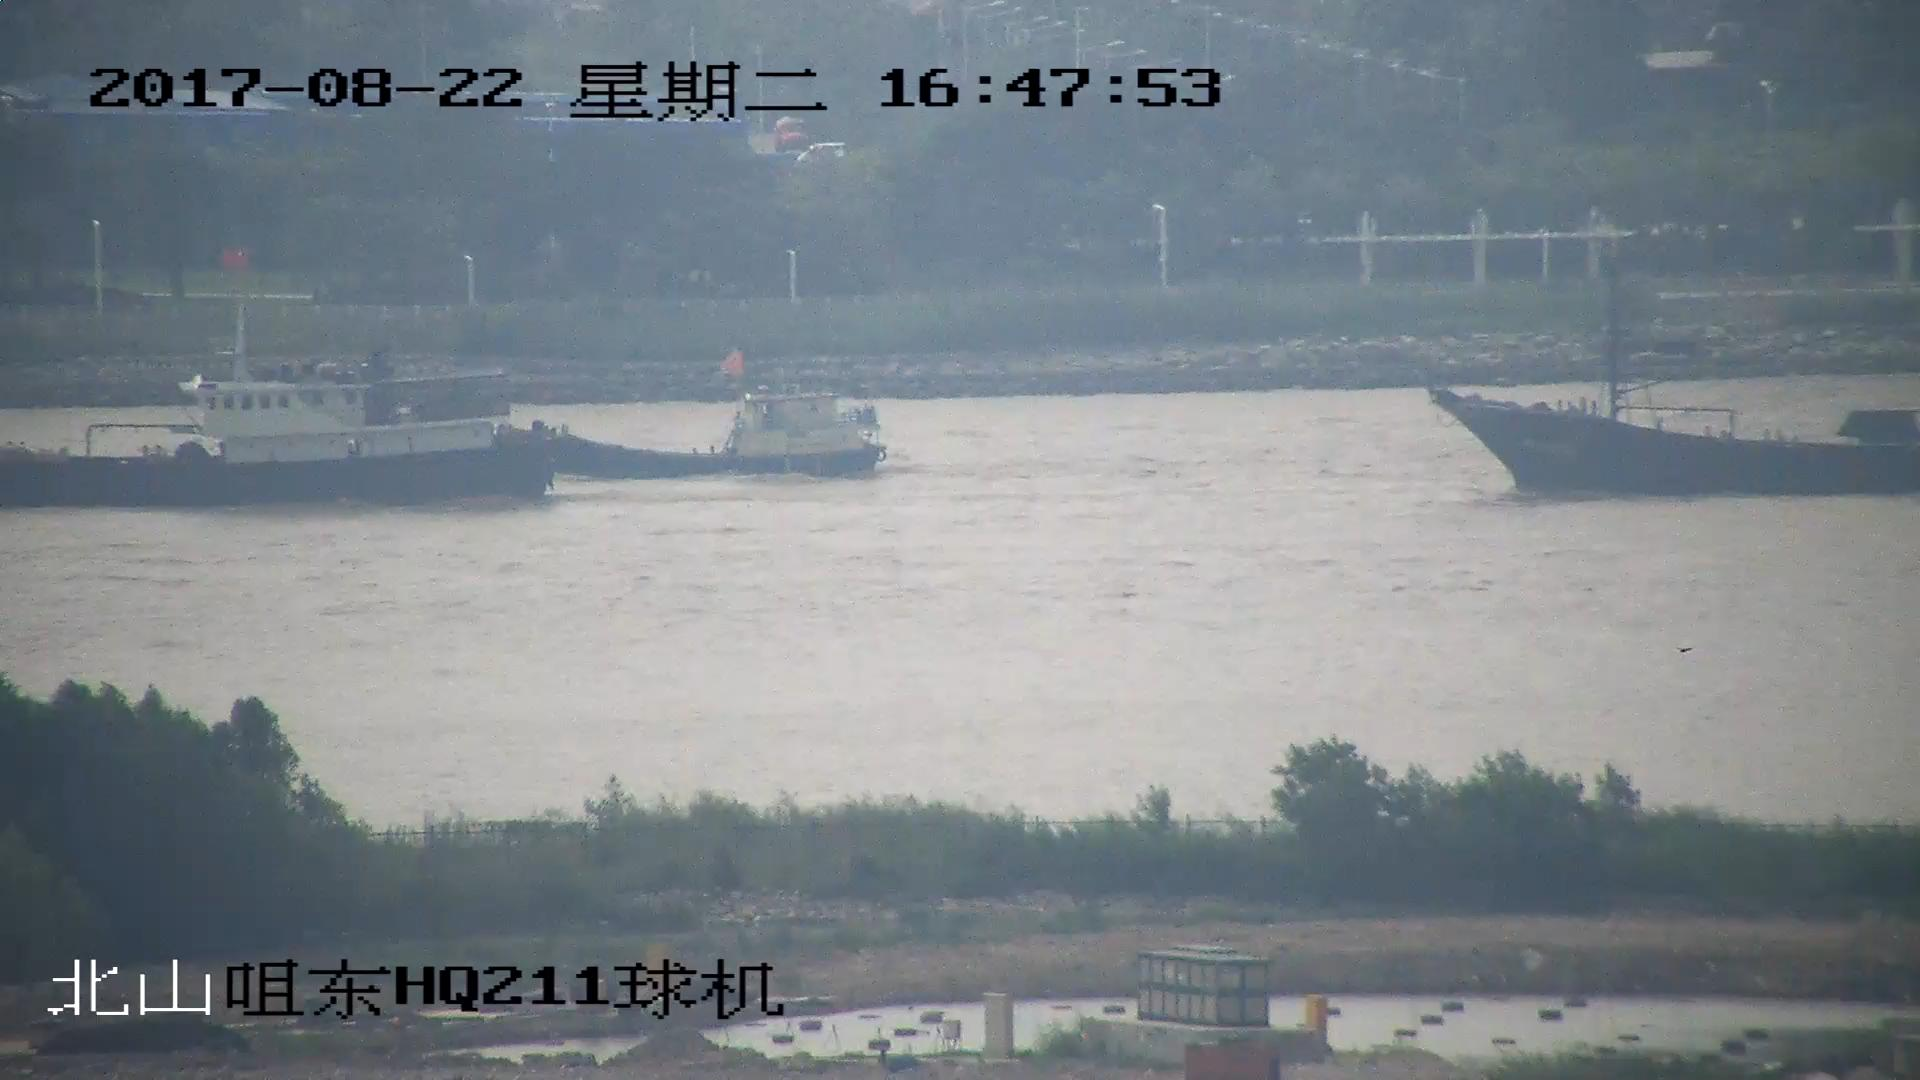fishing boat: (1, 258, 563, 508), (1427, 263, 1920, 500), (523, 350, 889, 484)
